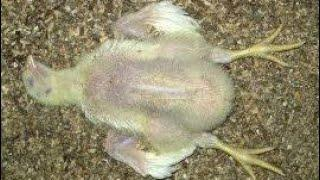AbNormal: (14, 4, 313, 177)
